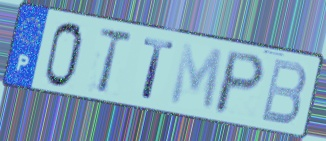0: (43, 20, 86, 89)
B: (258, 56, 309, 128)
M: (167, 41, 225, 114)
P: (211, 48, 268, 117)
T: (95, 27, 134, 97), (139, 36, 177, 103)
